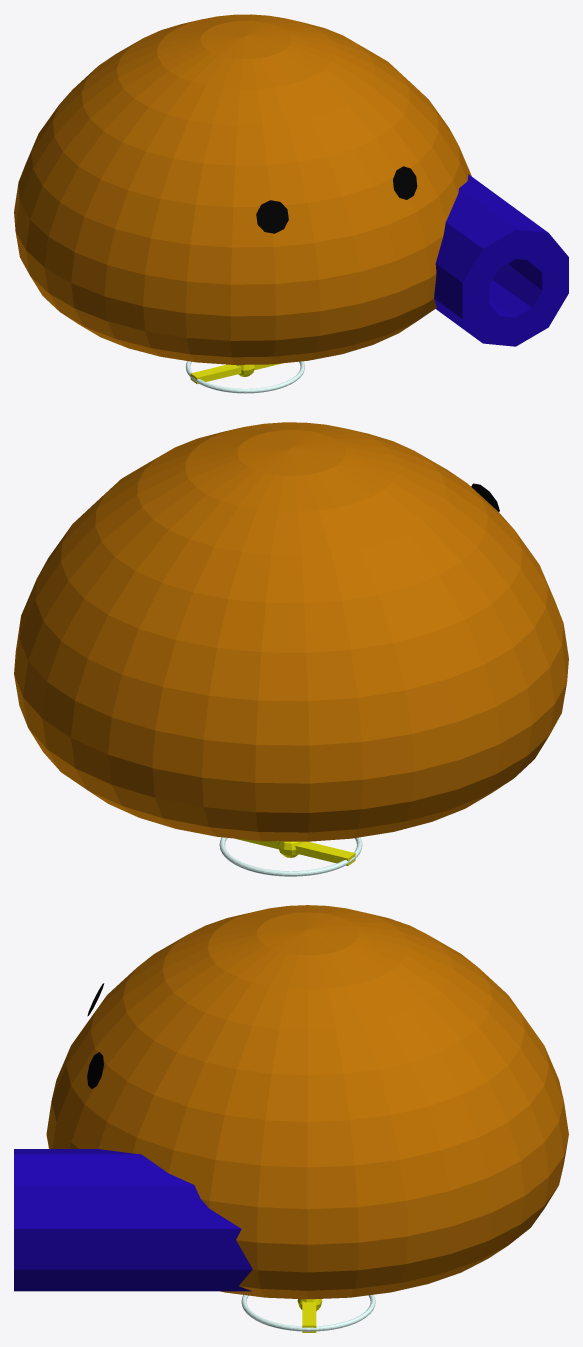
Rendered from Prota.fbx.
3 renders of one model, top to bottom at view 1: azimuth 30°, elevation 25°; view 2: azimuth 150°, elevation 25°; view 3: azimuth 270°, elevation 25°, orthographic. The views are drawn at different scales.
Parts seen in each view (by area): view 1: Slime, Cannon, Ojo1, Halo, Helice, Ojo2; view 2: Slime, Halo, Helice; view 3: Slime, Cannon, Halo.
Boxes of the visible parts, left/top/right/bottom form: Slime: left=14, top=14, right=471, bottom=364; Cannon: left=434, top=174, right=568, bottom=346; Ojo1: left=256, top=200, right=288, bottom=233; Halo: left=185, top=361, right=304, bottom=393; Helice: left=190, top=363, right=282, bottom=384; Ojo2: left=393, top=166, right=417, bottom=199; Slime: left=14, top=422, right=568, bottom=841; Halo: left=219, top=837, right=362, bottom=876; Helice: left=235, top=838, right=355, bottom=865; Slime: left=46, top=905, right=568, bottom=1299; Cannon: left=14, top=1149, right=252, bottom=1291; Halo: left=241, top=1294, right=375, bottom=1331.
Size of the model in its own units: 200 by 162 by 212.
